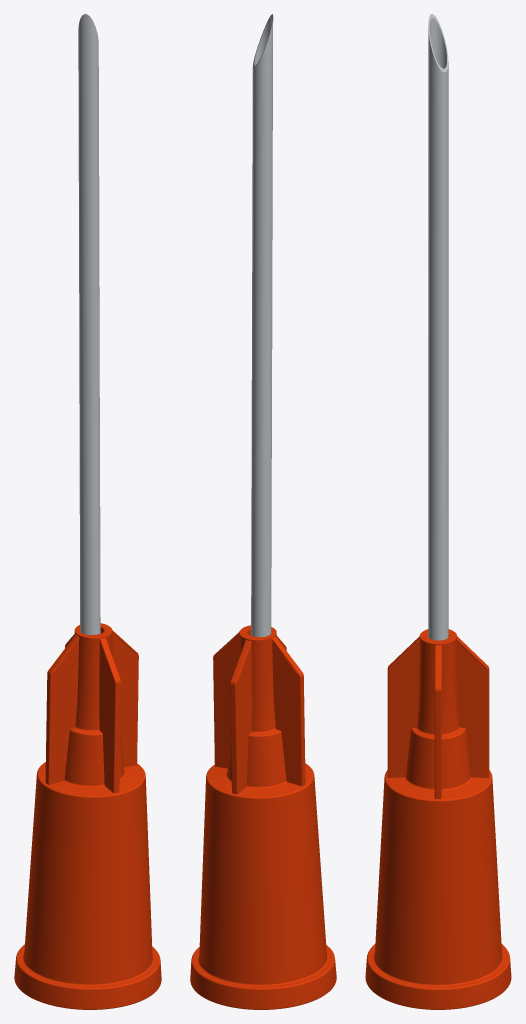
Rendered from igolka shpritc.FBX.
The picture shows the model from 3 angles, left to right: view 1: azimuth 30°, elevation 25°; view 2: azimuth 150°, elevation 25°; view 3: azimuth 270°, elevation 25°; orthographic projection.
Visible parts, largest first — view 1: needle_plastic, needle_metal; view 2: needle_plastic, needle_metal; view 3: needle_plastic, needle_metal.
Boxes of the visible parts, box(x1,y1,x2,y2) form: needle_plastic: box(14, 623, 161, 1009); needle_metal: box(78, 14, 100, 634); needle_plastic: box(190, 625, 336, 1009); needle_metal: box(251, 14, 273, 637); needle_plastic: box(365, 629, 511, 1009); needle_metal: box(428, 14, 448, 640).
Size of the model in its own units: 6.86 by 49.91 by 6.86.
